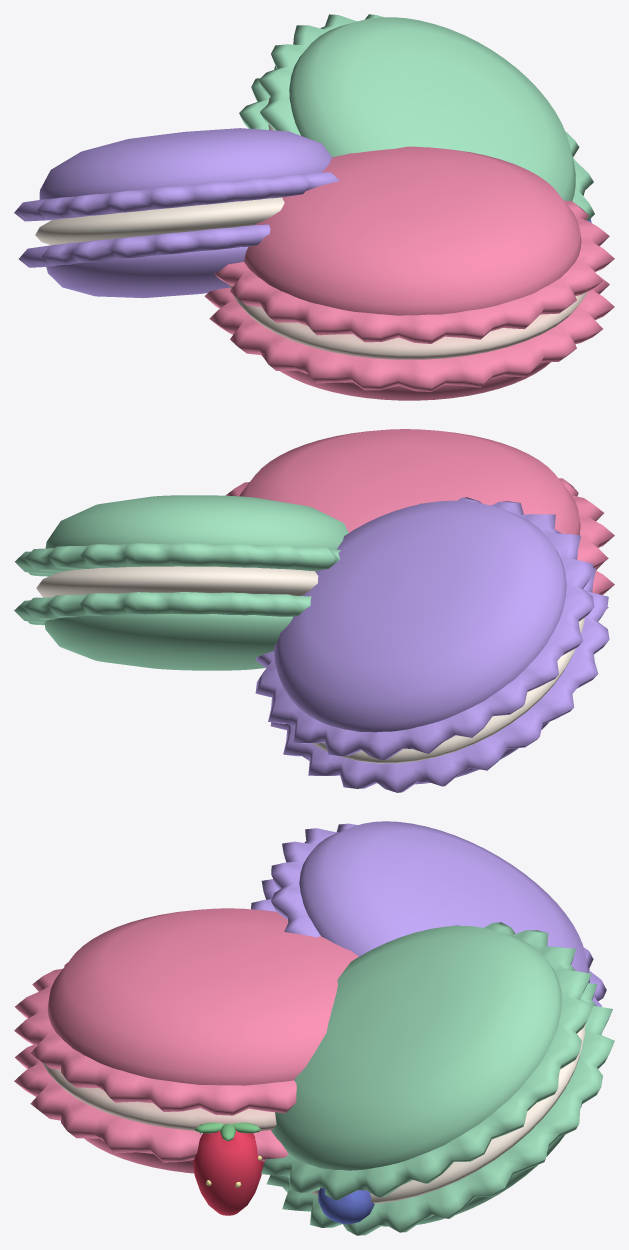
File: macaron.glb
3 views of the same model, one above another, from view 1: azimuth 30°, elevation 25°; view 2: azimuth 150°, elevation 25°; view 3: azimuth 270°, elevation 25° (orthographic). The views are drawn at different scales.
Parts seen in each view (by area): view 1: gf78db1, g9fe0bd, gbda3f4, cfff6ea, m_front_cream; view 2: gbda3f4, g9fe0bd, gf78db1, cfff6ea; view 3: g9fe0bd, gf78db1, gbda3f4, berry_body, m_front_cream, cfff6ea, blue_body, c7cc68a.
Boxes of the visible parts, x1,y1,x2,y2 form: gf78db1: [204, 146, 614, 400]; g9fe0bd: [239, 14, 594, 220]; gbda3f4: [14, 128, 339, 298]; cfff6ea: [35, 97, 284, 245]; m_front_cream: [230, 285, 587, 359]; gbda3f4: [255, 497, 609, 792]; g9fe0bd: [14, 495, 348, 670]; gf78db1: [225, 429, 614, 608]; cfff6ea: [36, 566, 584, 763]; g9fe0bd: [261, 922, 614, 1235]; gf78db1: [14, 908, 358, 1173]; gbda3f4: [251, 821, 606, 1006]; berry_body: [193, 1130, 263, 1215]; m_front_cream: [42, 1062, 276, 1130]; cfff6ea: [288, 999, 585, 1203]; blue_body: [318, 1187, 374, 1224]; c7cc68a: [195, 1122, 261, 1141].
Bounding box in the file's own units: 0.7174 × 0.2776 × 0.6562.
